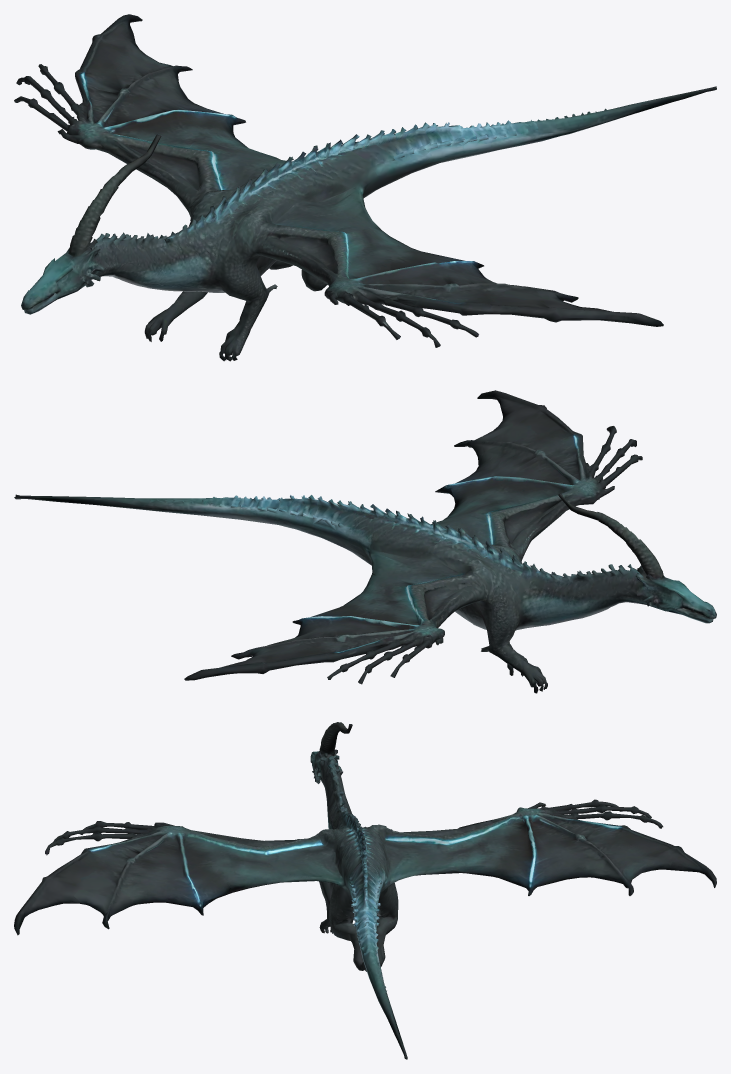
The model's file is dragon.glb.
3 renders of one model, top to bottom at view 1: azimuth 30°, elevation 25°; view 2: azimuth 150°, elevation 25°; view 3: azimuth 270°, elevation 25°, orthographic. The views are drawn at different scales.
Visible parts, largest first — view 1: tripo_node_bff35b78-0130-4e3d-80bc-90f70bfeac07; view 2: tripo_node_bff35b78-0130-4e3d-80bc-90f70bfeac07; view 3: tripo_node_bff35b78-0130-4e3d-80bc-90f70bfeac07.
Part boxes in pixels (x1,y1,x2,y2): tripo_node_bff35b78-0130-4e3d-80bc-90f70bfeac07: (14, 14, 716, 361); tripo_node_bff35b78-0130-4e3d-80bc-90f70bfeac07: (14, 390, 716, 693); tripo_node_bff35b78-0130-4e3d-80bc-90f70bfeac07: (14, 722, 716, 1059).
Bounding box in the file's own units: 0.9799 × 0.2892 × 0.9778.
Materials: 1 (1 with a texture image).
